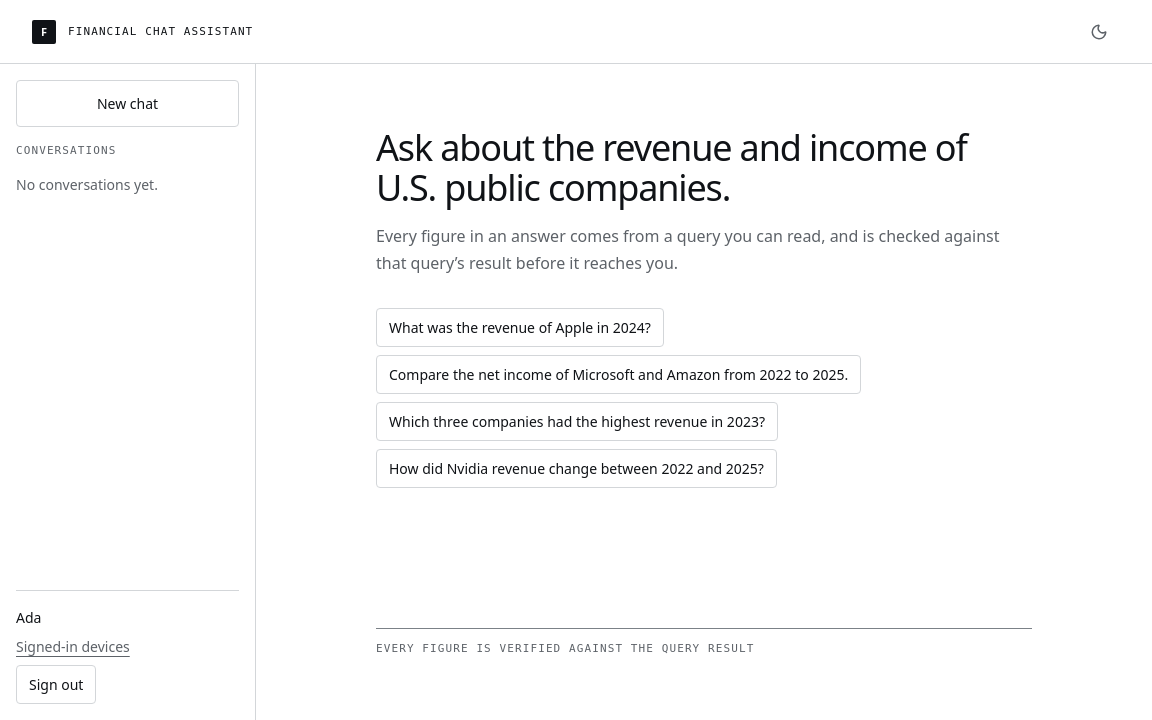
Test: conversations on screen › starts one and opens it, rather than leaving it in the rail to find
The image size is (1152, 720).
Click the button "New chat".
click(128, 104)  # box [16,80,239,127]
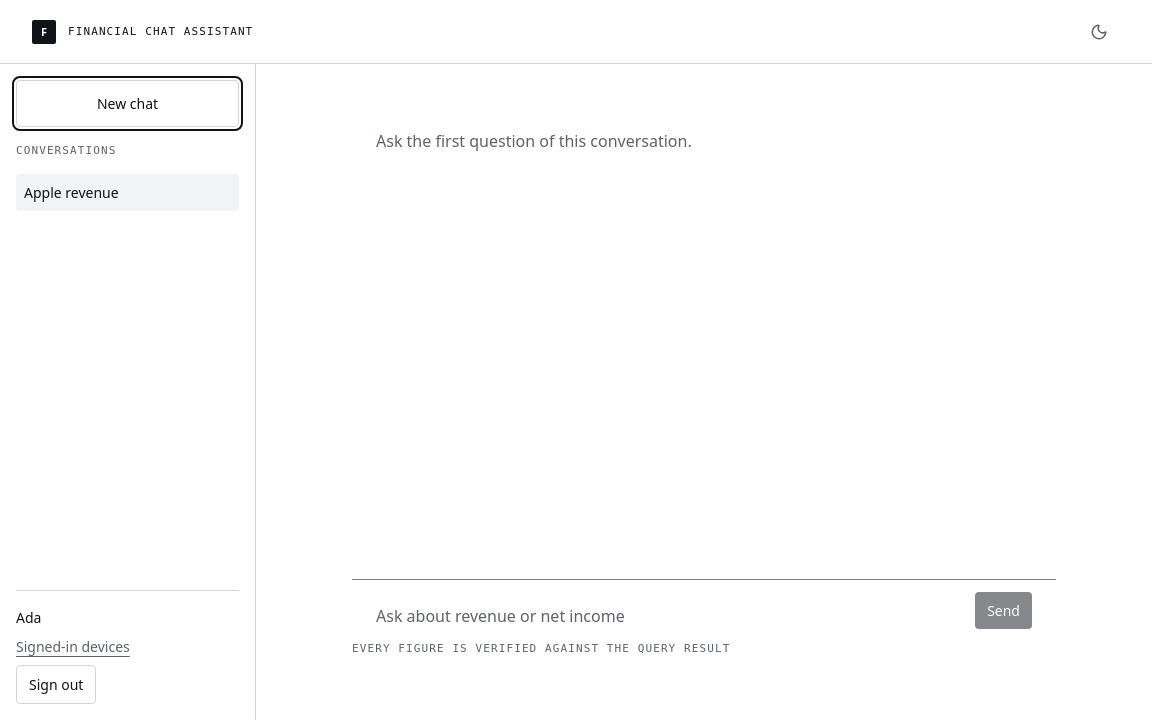
Now the text "Ask the first question of this conversation." is shown, box [376,130,692,152]
Now the link "Apple revenue" is shown, box [24,183,119,202]
